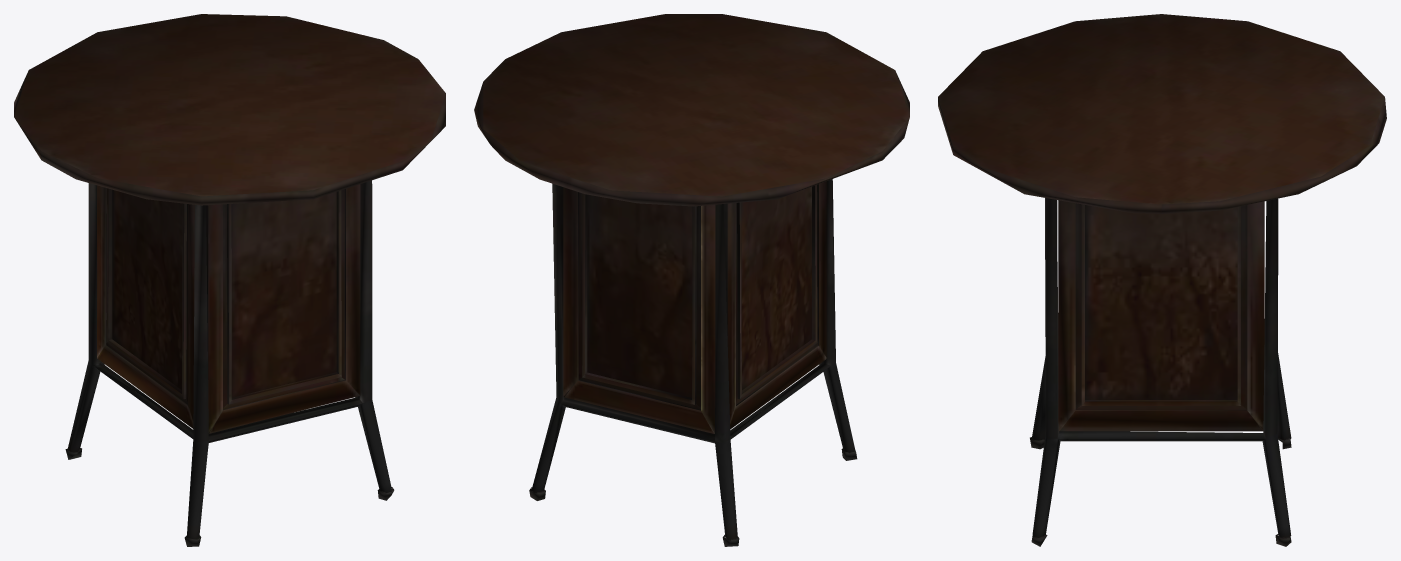
File: cafe_table_round.glb
The picture shows the model from 3 angles, left to right: view 1: azimuth 30°, elevation 25°; view 2: azimuth 150°, elevation 25°; view 3: azimuth 270°, elevation 25°; orthographic projection. The views are drawn at different scales.
Visible parts, largest first — view 1: cafe_table_round; view 2: cafe_table_round; view 3: cafe_table_round.
Part boxes in pixels (<box>): cafe_table_round: <box>14,14,445,546</box>; cafe_table_round: <box>474,14,909,546</box>; cafe_table_round: <box>938,14,1386,546</box>.
Bounding box in the file's own units: 0.7895 × 0.7451 × 0.7861.
Materials: 1 (1 with a texture image).
